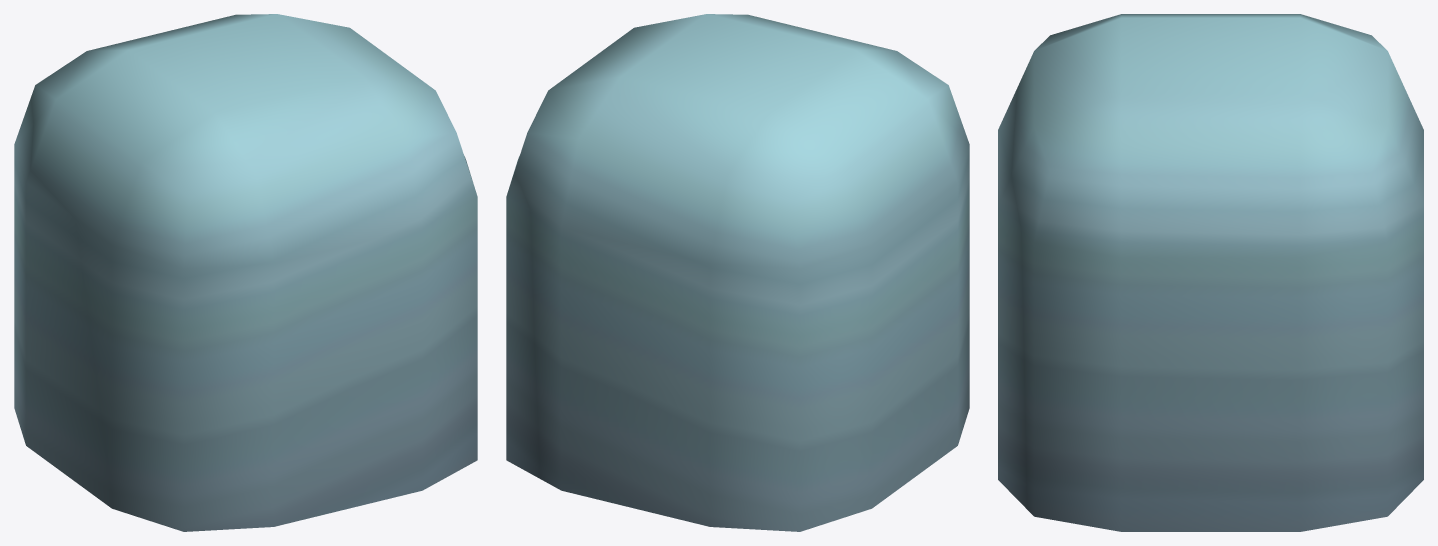
Rendered from Rock.fbx.
The picture shows the model from 3 angles, left to right: view 1: azimuth 30°, elevation 25°; view 2: azimuth 150°, elevation 25°; view 3: azimuth 270°, elevation 25°; orthographic projection. The views are drawn at different scales.
Visible parts, largest first — view 1: pCube1; view 2: pCube1; view 3: pCube1.
Boxes of the visible parts, x1,y1,x2,y2 form: pCube1: (14,14,477,531); pCube1: (506,14,969,531); pCube1: (998,14,1423,531).
Bounding box in the file's own units: 2239 × 2239 × 2239.
Materials: 1 (1 with a texture image).
